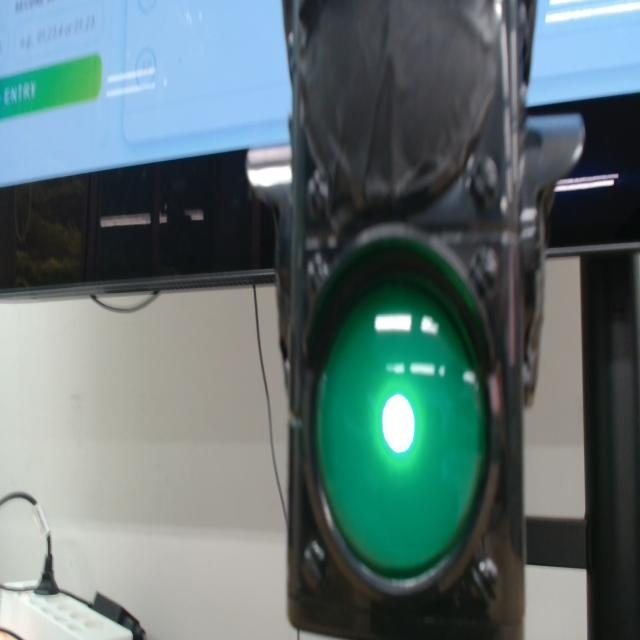green_light: (316, 282, 486, 578), (382, 394, 414, 453)
